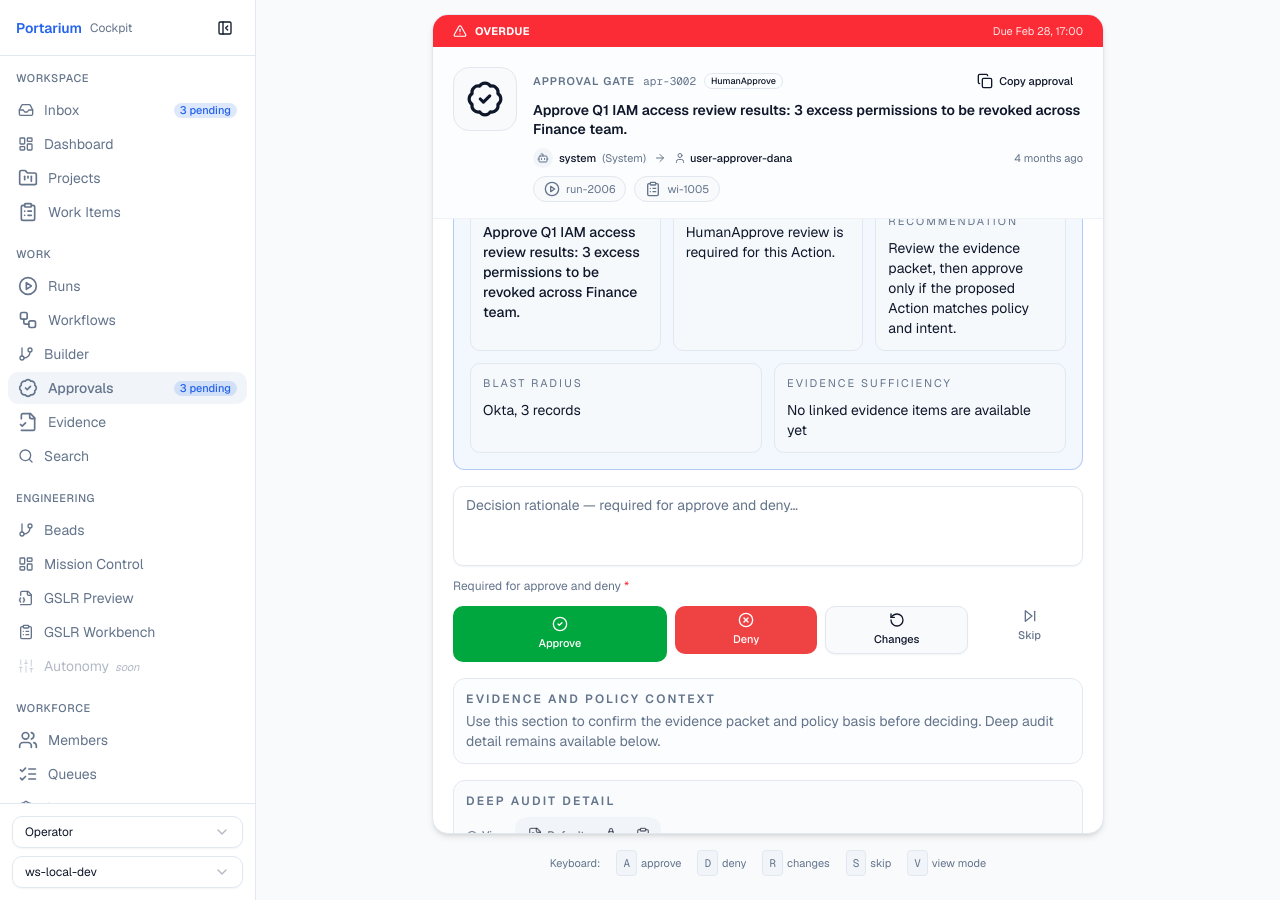
Approvals triage page › does not advance to another approval after denying a policy-studio focused review
(page scrolled)
In the text box labelled "Decision rationale — required for approve and deny…": (768, 526) [453,486,1083,566], type "Reject risky spend"
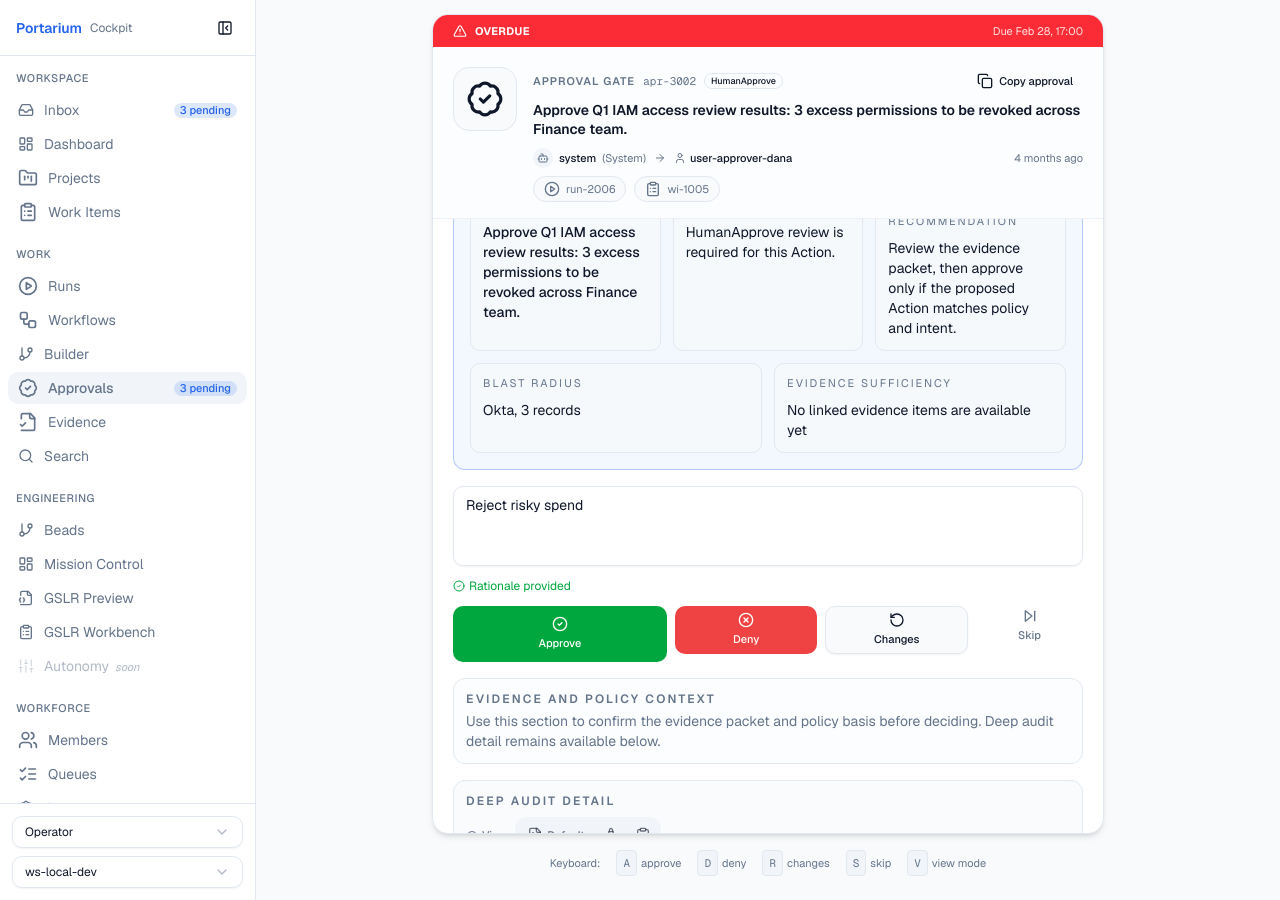
Click the button "Deny": (746, 630) [675,606,818,654]
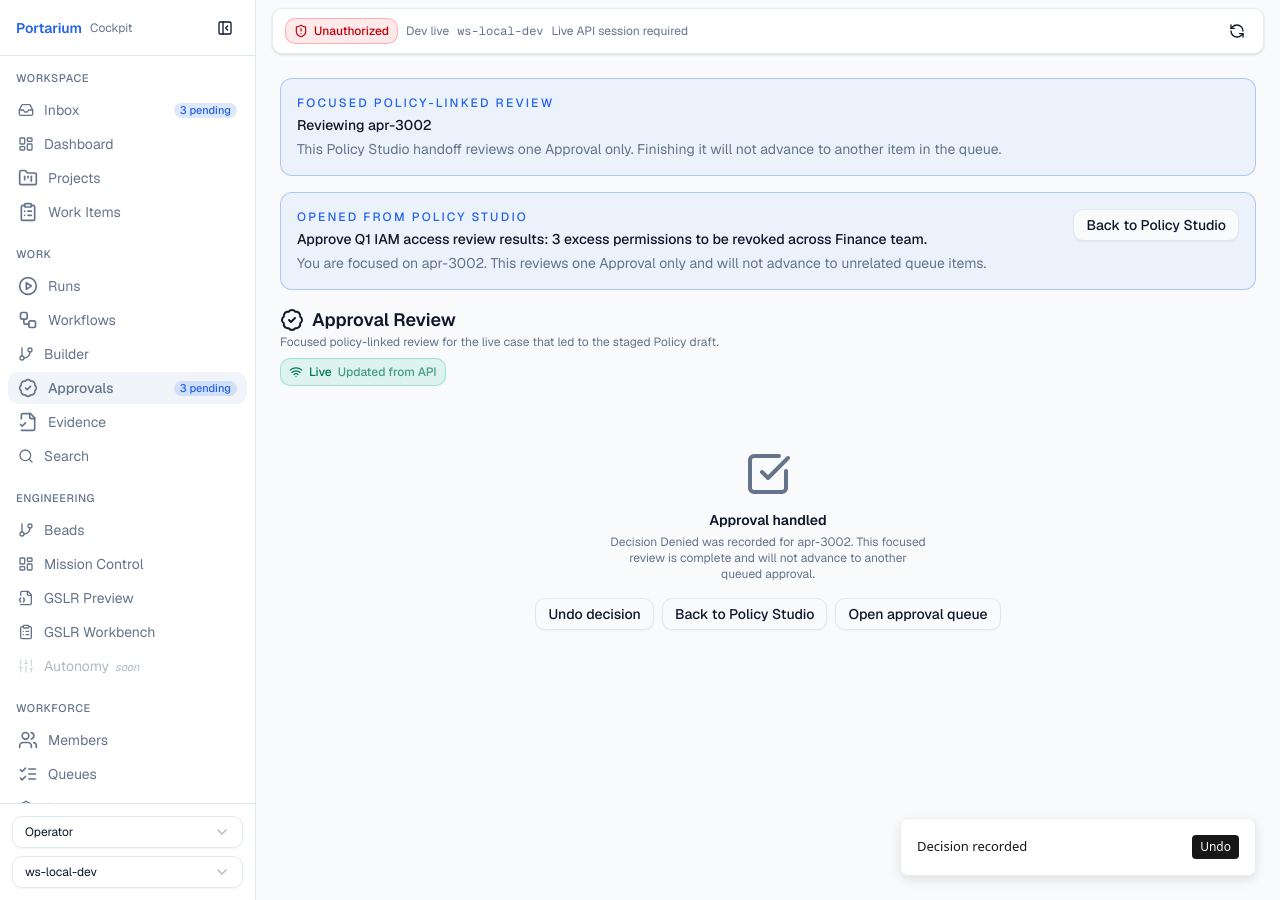
expect the heading "Approval handled" is shown: met, box [709,510,827,530]
expect the text "will not advance to another queued approval" is shown: met, box [610,534,926,582]
expect the link "Back to Policy Studio" in the row of "Opened from Policy Studio" is shown: met, box [1073,209,1239,241]
